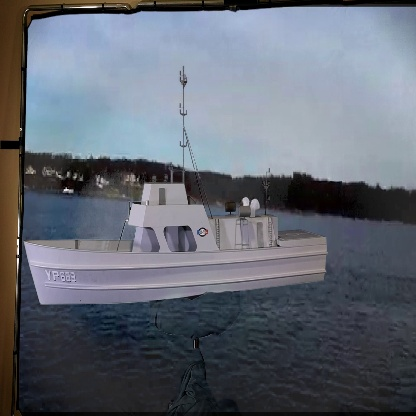YP689: (23, 64, 329, 308)
